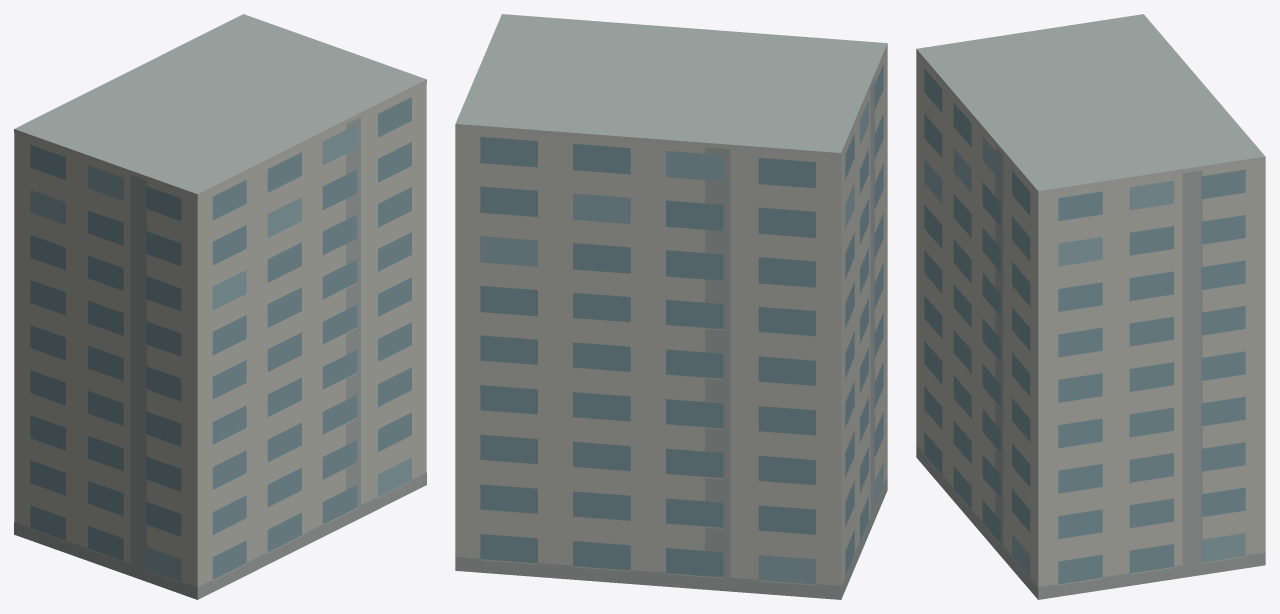
File: residential-b5dc197a-9404-437a-ae61-5dc688afcf5d.glb
The picture shows the model from 3 angles, left to right: view 1: azimuth 30°, elevation 25°; view 2: azimuth 150°, elevation 25°; view 3: azimuth 270°, elevation 25°; orthographic projection. The views are drawn at different scales.
Visible parts, largest first — view 1: residential-b5dc197a-9404-437a-ae61-5dc688afcf5d.tmp; view 2: residential-b5dc197a-9404-437a-ae61-5dc688afcf5d.tmp; view 3: residential-b5dc197a-9404-437a-ae61-5dc688afcf5d.tmp.
Part boxes in pixels (x1=…): residential-b5dc197a-9404-437a-ae61-5dc688afcf5d.tmp: x1=14, y1=14, x2=426, y2=599; residential-b5dc197a-9404-437a-ae61-5dc688afcf5d.tmp: x1=455, y1=14, x2=887, y2=599; residential-b5dc197a-9404-437a-ae61-5dc688afcf5d.tmp: x1=916, y1=14, x2=1265, y2=599.
Bounding box in the file's own units: 21.39 × 23 × 17.81.
